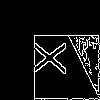X: (26, 41, 66, 75)
